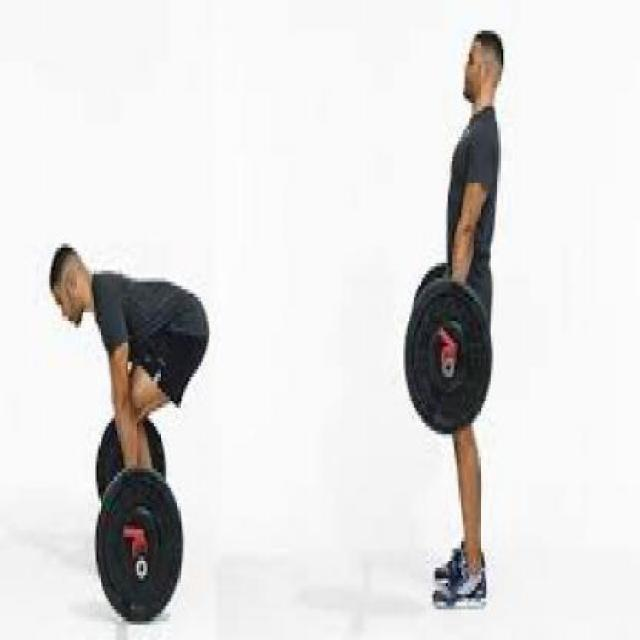Barbell: (441, 354, 456, 382), (134, 556, 150, 582)
